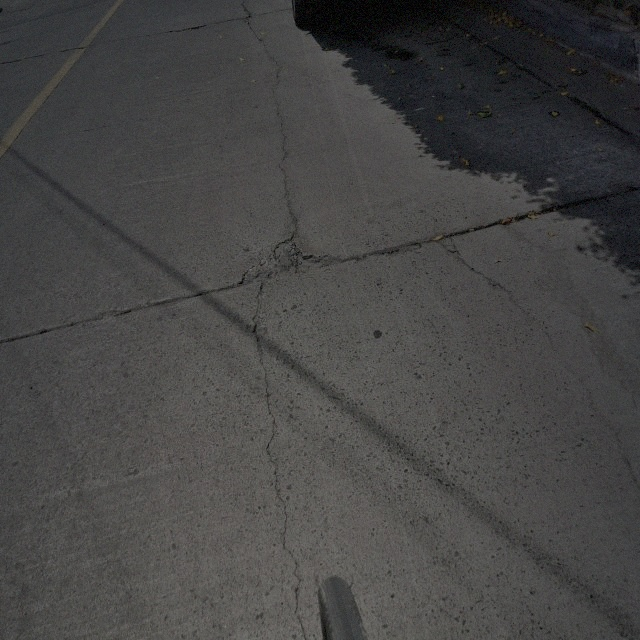pothole: (243, 230, 320, 288)
